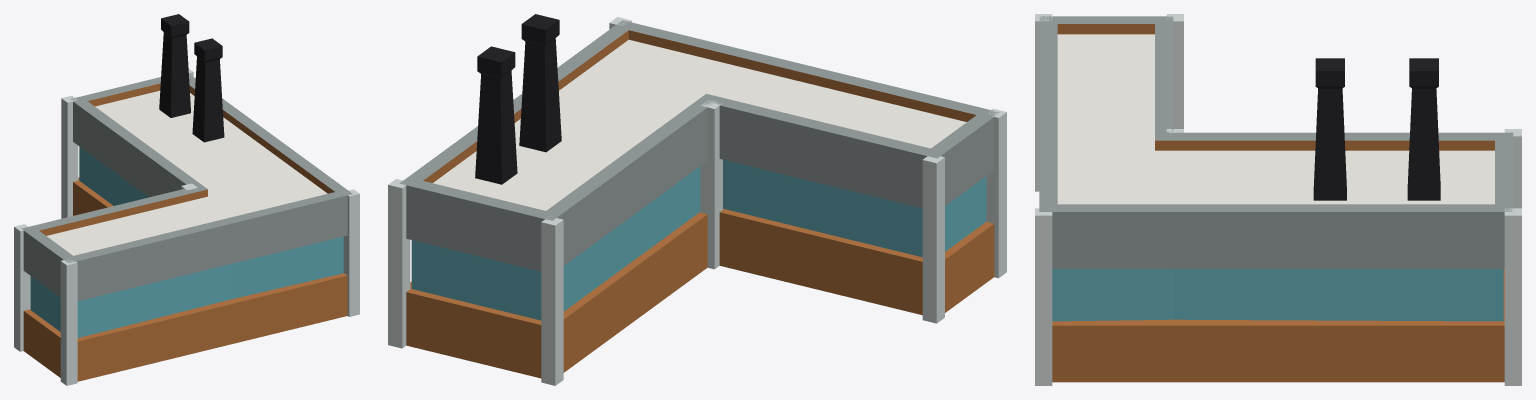
Rendered from TestUsine.fbx.
3 renders of one model, left to right at view 1: azimuth 30°, elevation 25°; view 2: azimuth 150°, elevation 25°; view 3: azimuth 270°, elevation 25°, orthographic. The views are drawn at different scales.
Parts seen in each view (by area): view 1: Cube; view 2: Cube; view 3: Cube.
Part boxes in pixels (bbox=[...]): Cube: bbox=[14, 14, 359, 385]; Cube: bbox=[388, 14, 1006, 385]; Cube: bbox=[1035, 14, 1521, 385].
Size of the model in its own units: 509 by 340 by 519.
